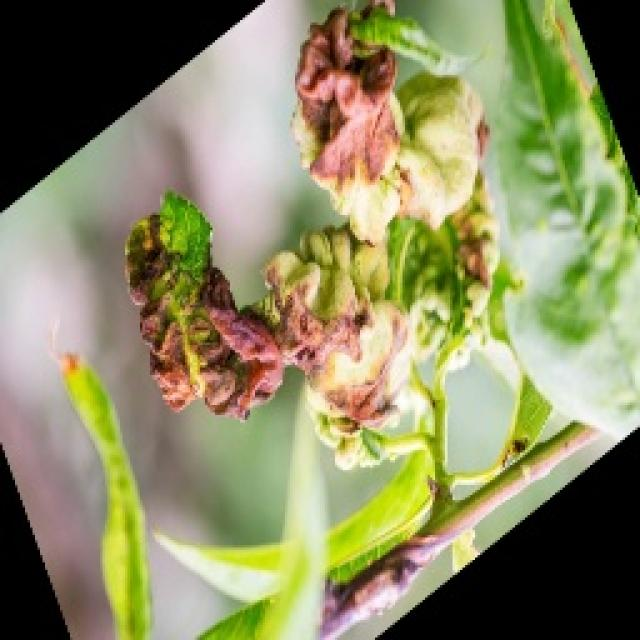peach_leaf_curl: (94, 219, 462, 423)
